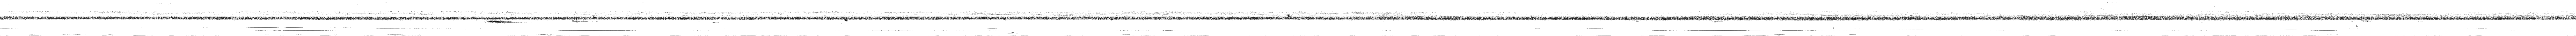meteor: (486, 20, 519, 23)
